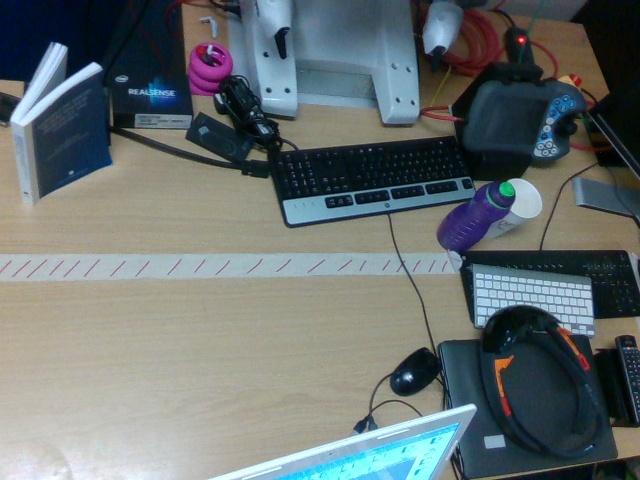book: (10, 41, 113, 206)
